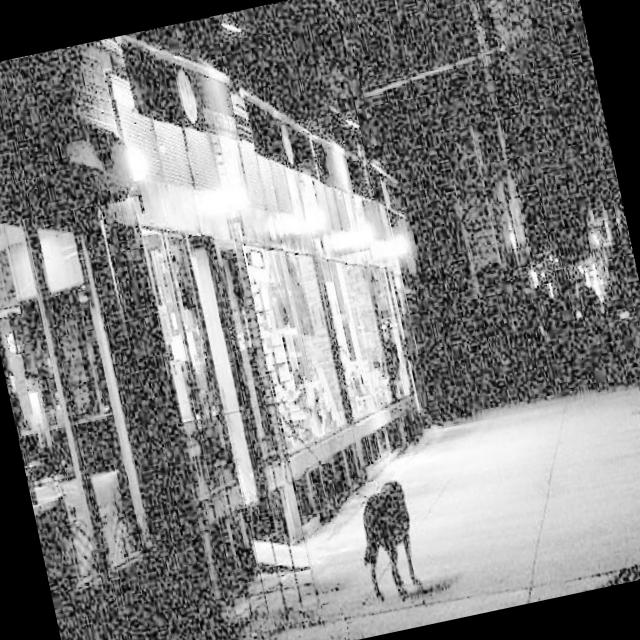Dog: (336, 426, 455, 624)
